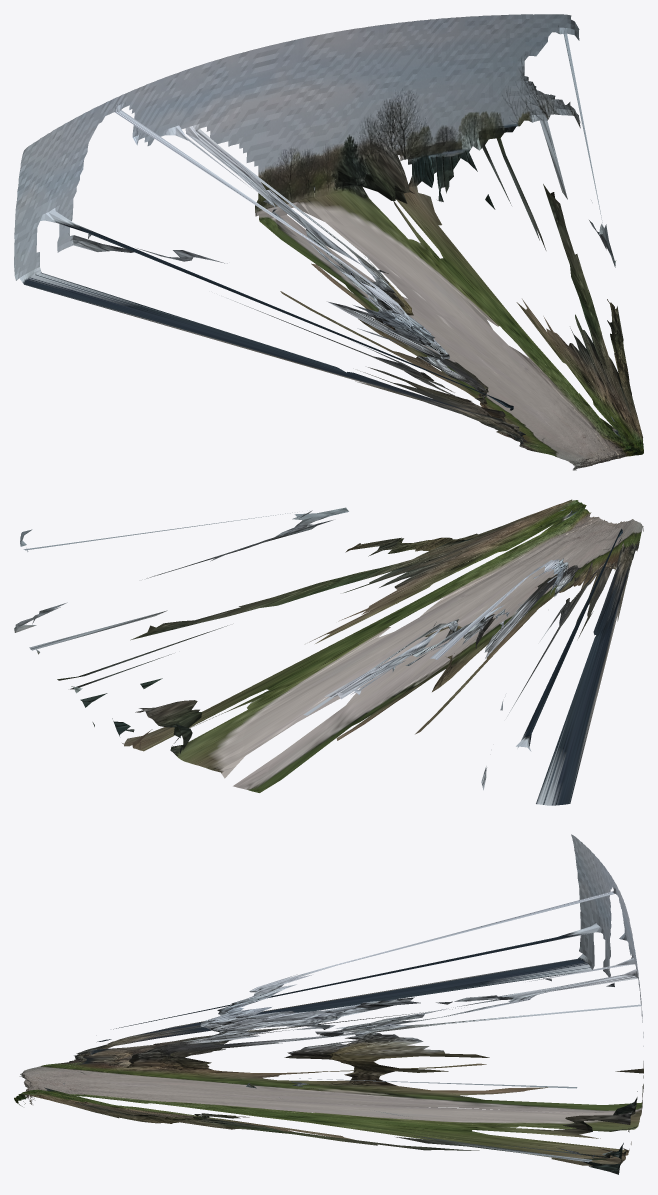
The picture shows the model from 3 angles, top to bottom: view 1: azimuth 30°, elevation 25°; view 2: azimuth 150°, elevation 25°; view 3: azimuth 270°, elevation 25°; orthographic projection. The views are drawn at different scales.
Parts seen in each view (by area): view 1: defaultobject; view 2: defaultobject; view 3: defaultobject.
Part boxes in pixels (left/top/right/bottom): defaultobject: left=14, top=14, right=643, bottom=470; defaultobject: left=14, top=499, right=643, bottom=805; defaultobject: left=14, top=834, right=643, bottom=1174.
Size of the model in its own units: 40.81 by 12.79 by 44.72.
1 material, 1 textured.
